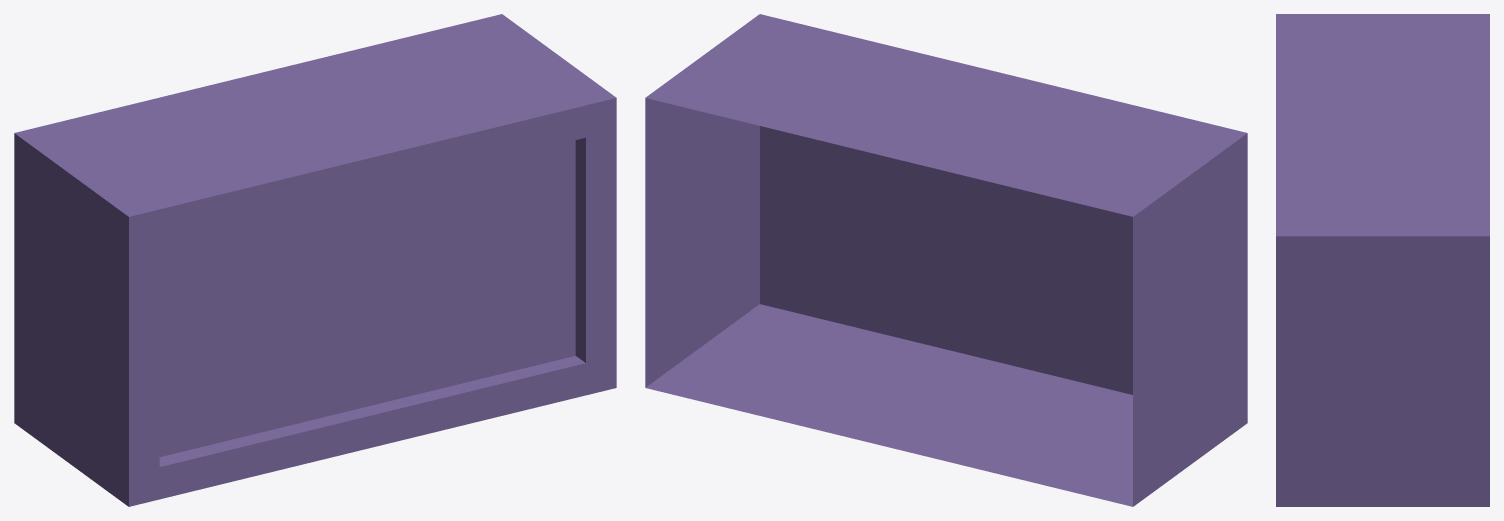
The model's file is Exit_Sign.fbx.
The picture shows the model from 3 angles, left to right: view 1: azimuth 30°, elevation 25°; view 2: azimuth 150°, elevation 25°; view 3: azimuth 270°, elevation 25°; orthographic projection. The views are drawn at different scales.
Parts seen in each view (by area): view 1: Exit_Sign; view 2: Exit_Sign; view 3: Exit_Sign.
Part boxes in pixels (left/top/right/bottom): Exit_Sign: left=14, top=14, right=616, bottom=506; Exit_Sign: left=645, top=14, right=1247, bottom=506; Exit_Sign: left=1276, top=14, right=1489, bottom=506.
Size of the model in its own units: 28.43 by 16.15 by 11.57.
